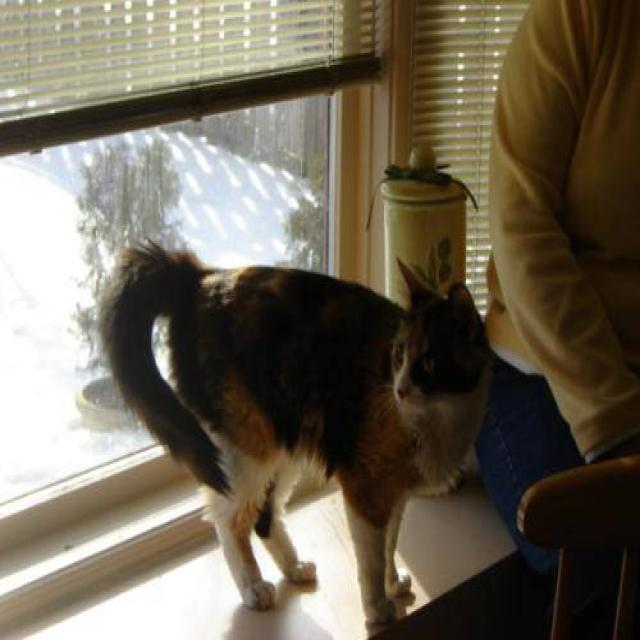cat: (96, 236, 494, 637)
